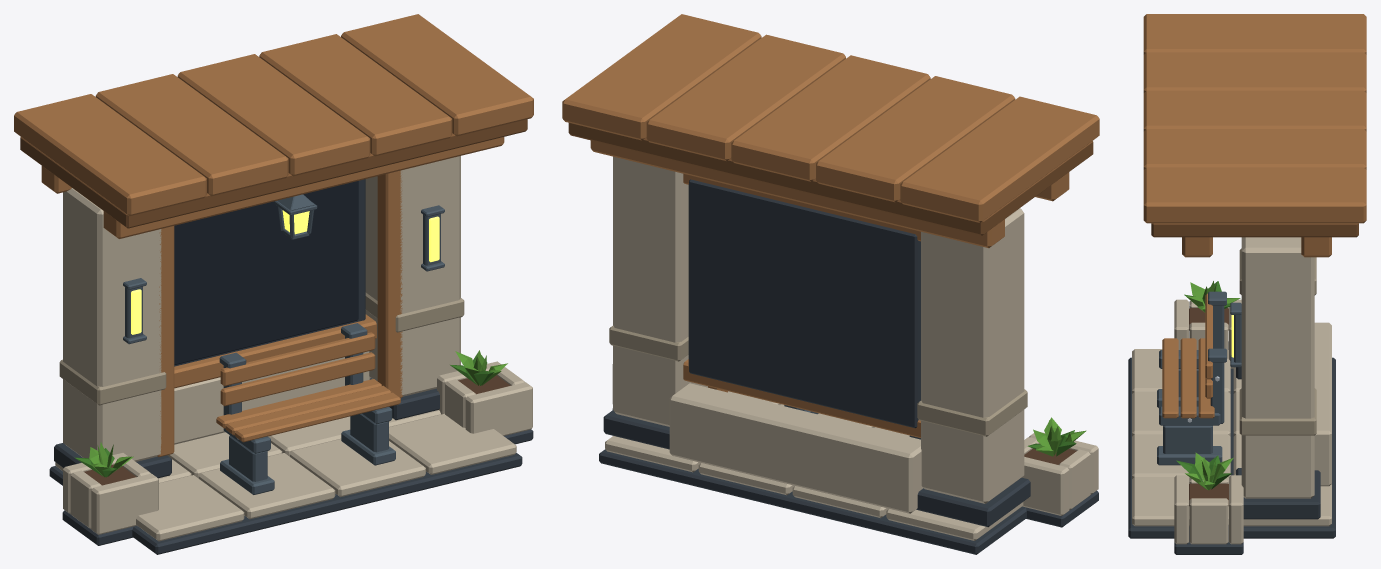
The model's file is Lobby_LeaderboardAlcove.fbx.
The picture shows the model from 3 angles, left to right: view 1: azimuth 30°, elevation 25°; view 2: azimuth 150°, elevation 25°; view 3: azimuth 270°, elevation 25°; orthographic projection. The views are drawn at different scales.
Parts seen in each view (by area): view 1: Wood, Concrete, Board, FrameDark, Frame, WoodDark, ConcreteDark, Leaf, Lamp, Soil, LeafDark; view 2: Concrete, Wood, FrameDark, WoodDark, ConcreteDark, Leaf; view 3: Wood, Concrete, FrameDark, Frame, WoodDark, ConcreteDark, Leaf, Soil, LeafDark.
Part boxes in pixels (bbox=[...]): Wood: bbox=[14, 14, 533, 457]; Concrete: bbox=[55, 156, 532, 541]; Board: bbox=[174, 181, 358, 364]; FrameDark: bbox=[49, 179, 533, 554]; Frame: bbox=[123, 194, 444, 494]; WoodDark: bbox=[20, 119, 527, 228]; ConcreteDark: bbox=[59, 292, 464, 405]; Leaf: bbox=[89, 350, 507, 477]; Lamp: bbox=[131, 216, 439, 334]; Soil: bbox=[84, 375, 510, 485]; LeafDark: bbox=[74, 352, 494, 477]; Concrete: bbox=[605, 156, 1098, 540]; Wood: bbox=[562, 14, 1099, 437]; FrameDark: bbox=[599, 179, 1098, 554]; WoodDark: bbox=[568, 123, 1093, 235]; ConcreteDark: bbox=[609, 325, 1027, 436]; Leaf: bbox=[1033, 417, 1086, 456]; Wood: bbox=[1143, 14, 1366, 418]; Concrete: bbox=[1132, 237, 1331, 544]; FrameDark: bbox=[1128, 341, 1335, 554]; Frame: bbox=[1157, 291, 1241, 465]; WoodDark: bbox=[1151, 223, 1358, 237]; ConcreteDark: bbox=[1239, 248, 1316, 435]; Leaf: bbox=[1185, 281, 1240, 490]; Soil: bbox=[1189, 308, 1228, 505]; LeafDark: bbox=[1176, 281, 1231, 489].
Size of the model in its own units: 12.61 by 9.9 by 6.2.
